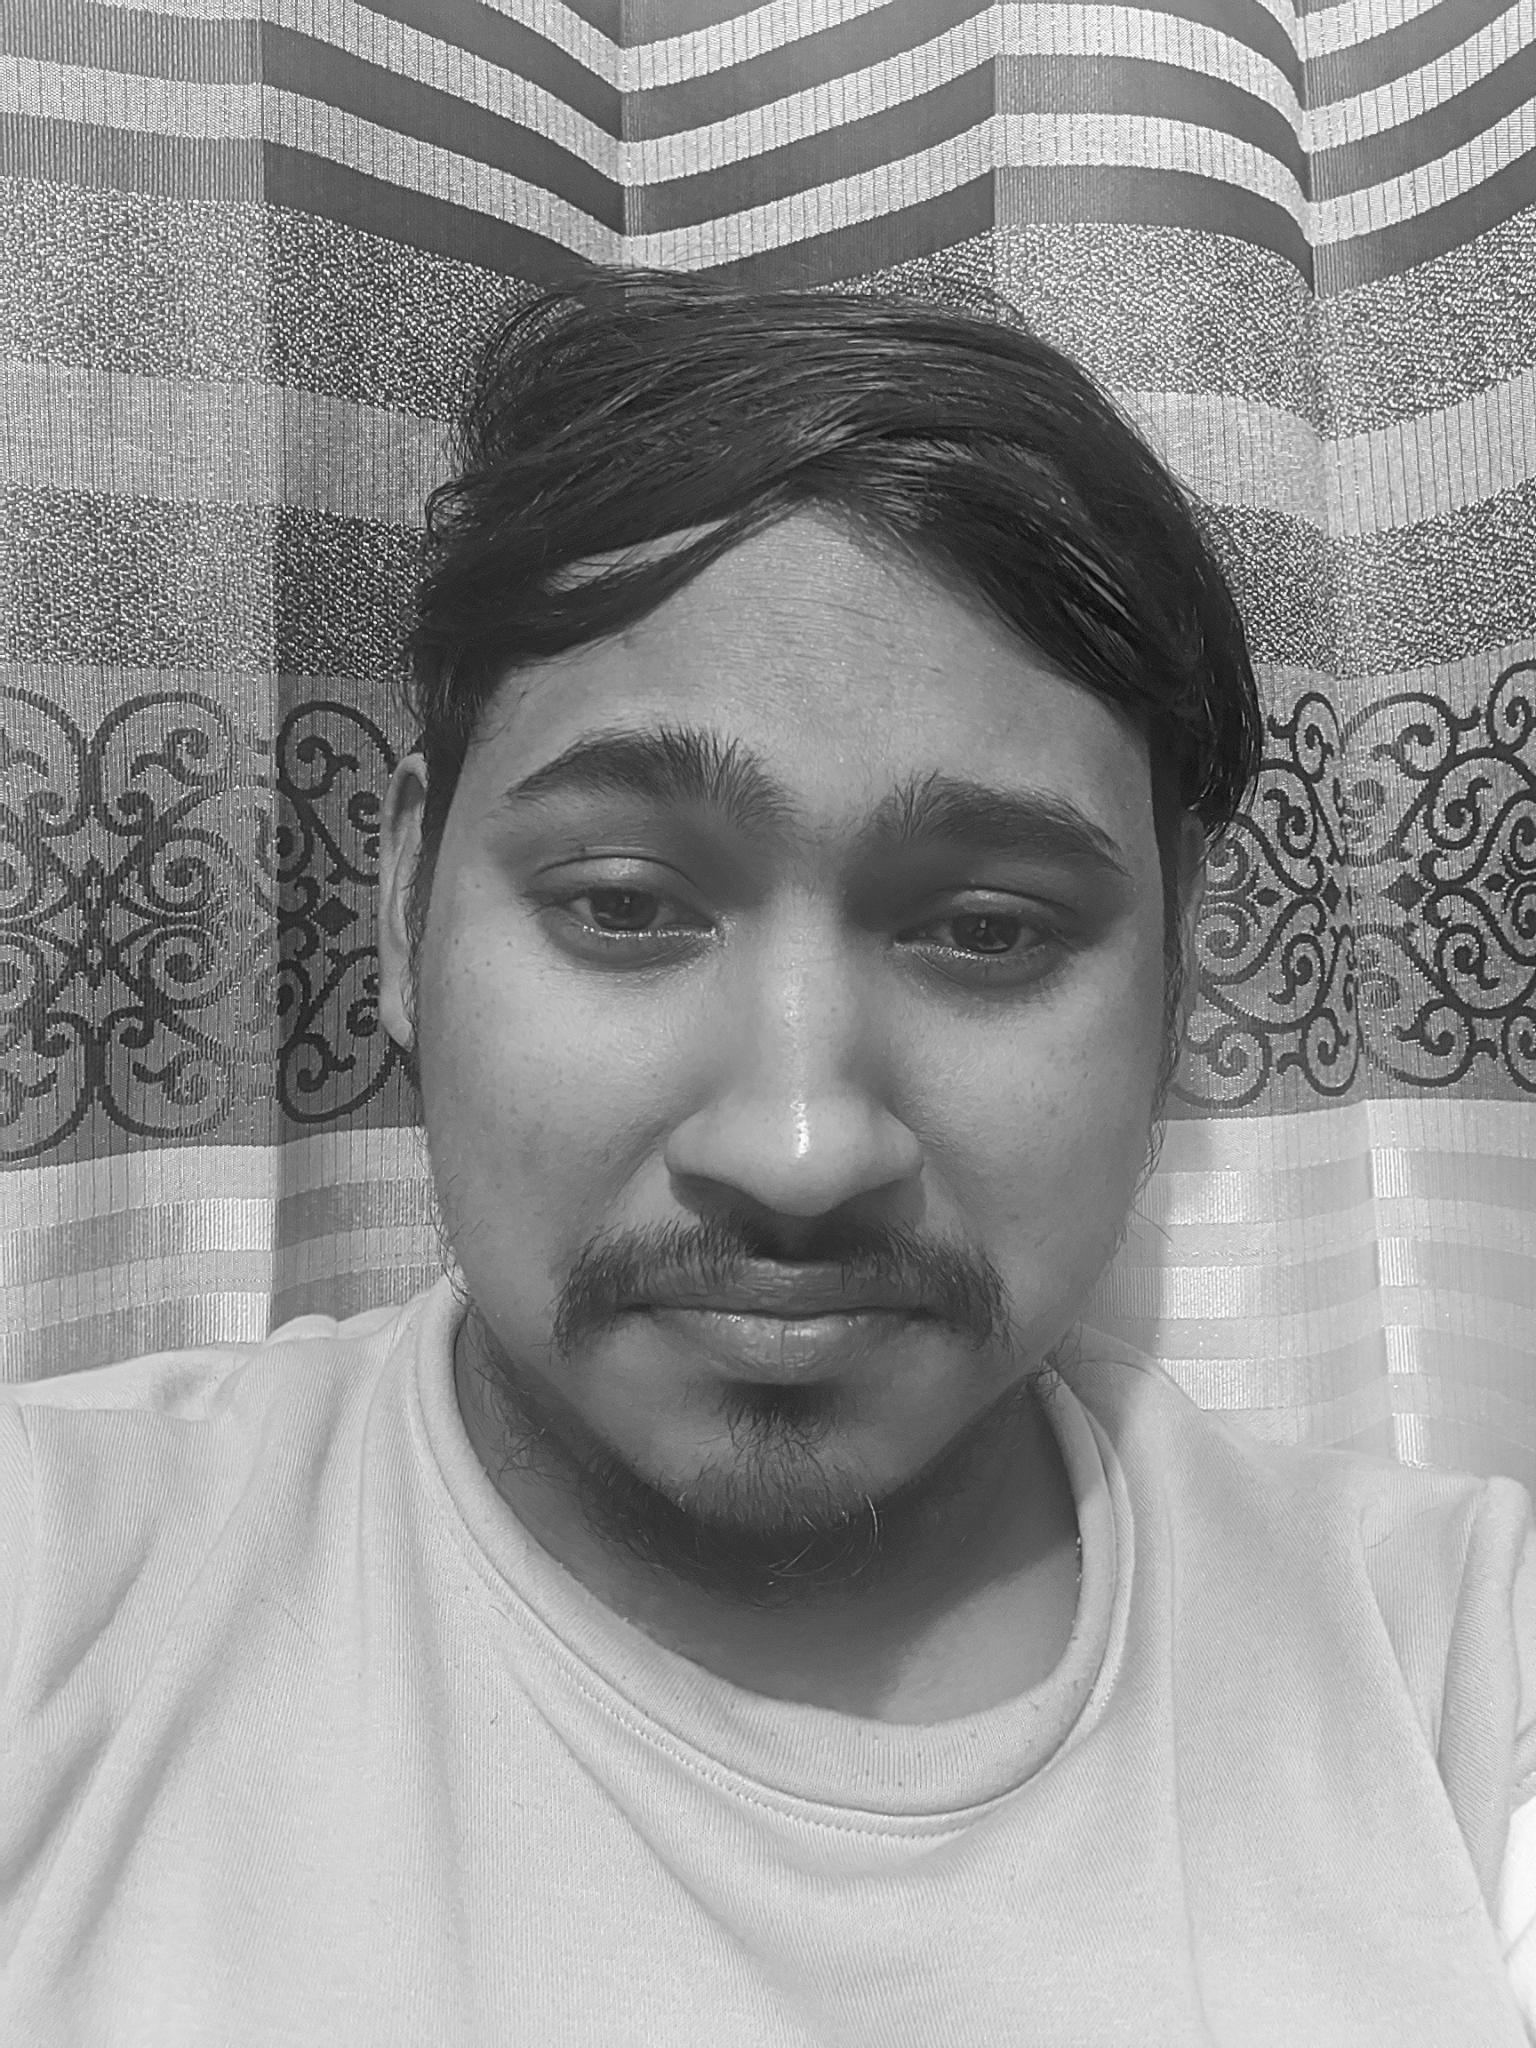Sad: (458, 632, 1162, 1582)
